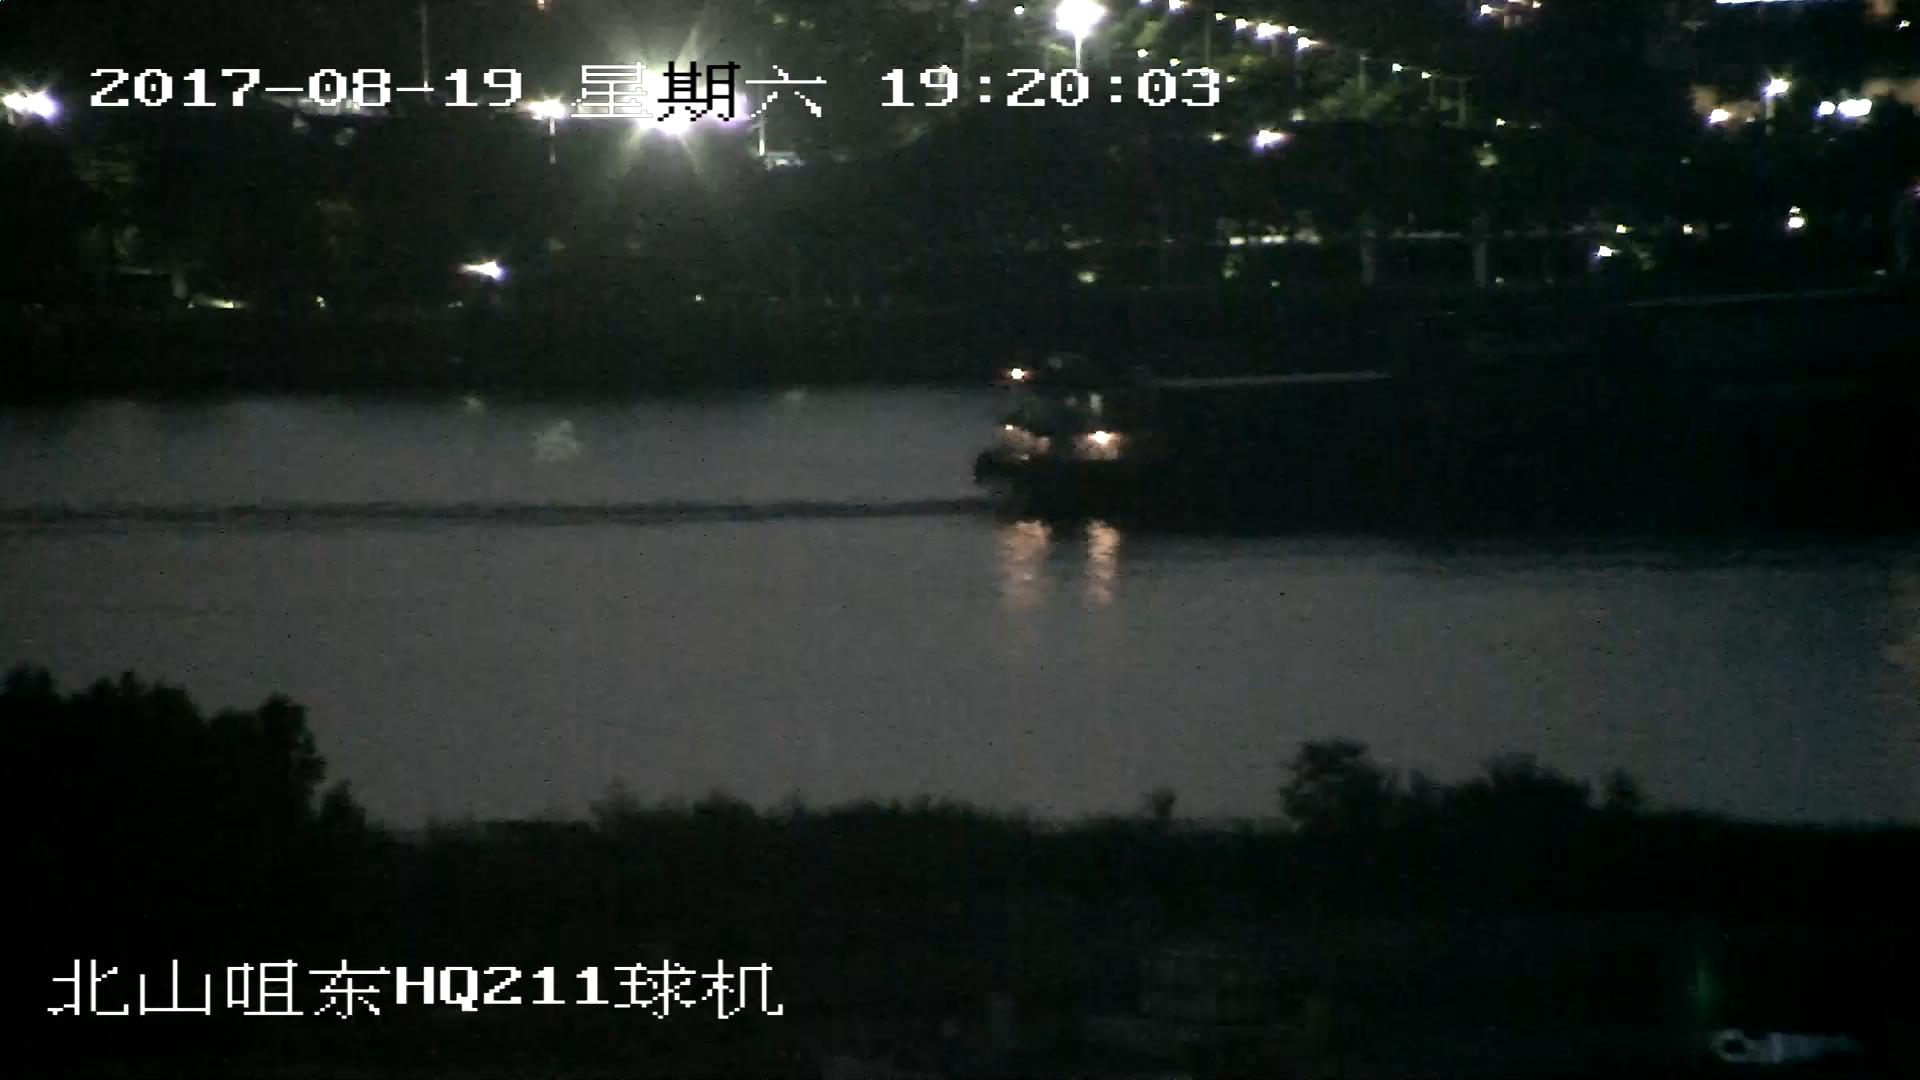container ship: (992, 337, 1920, 542)
